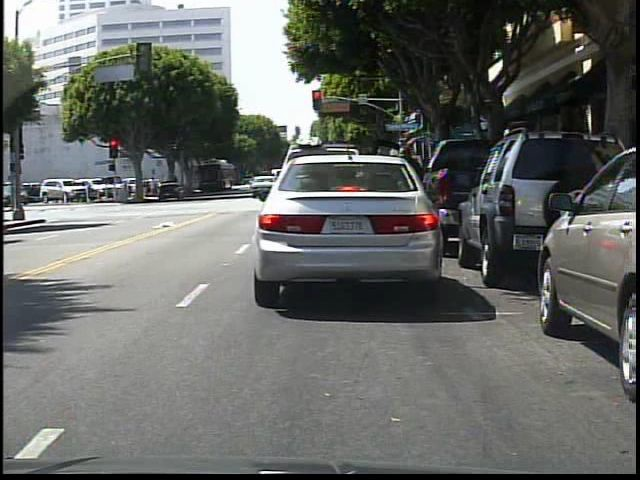person: (394, 142, 426, 244)
